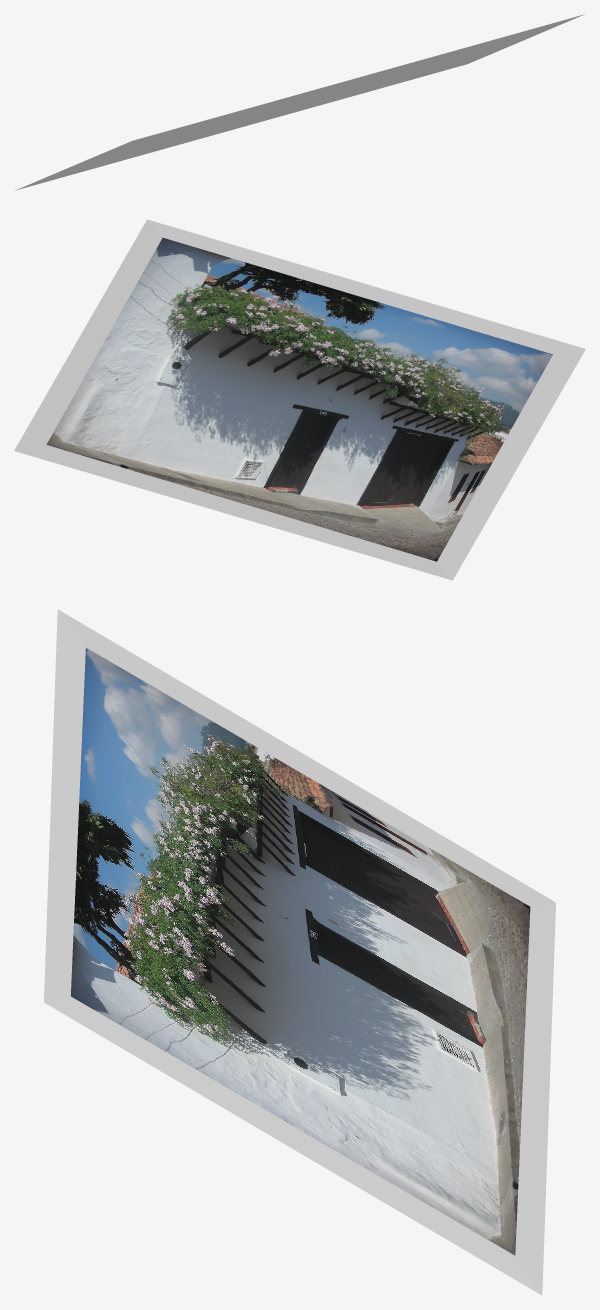
File: Fotografia.fbx
3 renders of one model, top to bottom at view 1: azimuth 30°, elevation 25°; view 2: azimuth 150°, elevation 25°; view 3: azimuth 270°, elevation 25°, orthographic. The views are drawn at different scales.
Visible parts, largest first — view 1: FotoInteractuable; view 2: FotoInteractuable; view 3: FotoInteractuable.
Part boxes in pixels (bbox=[...]): FotoInteractuable: bbox=[15, 14, 584, 190]; FotoInteractuable: bbox=[14, 219, 585, 580]; FotoInteractuable: bbox=[44, 609, 555, 1295].
Size of the model in its own units: 4.07 by 1.39 by 2.
Materials: 2 (1 with a texture image).
